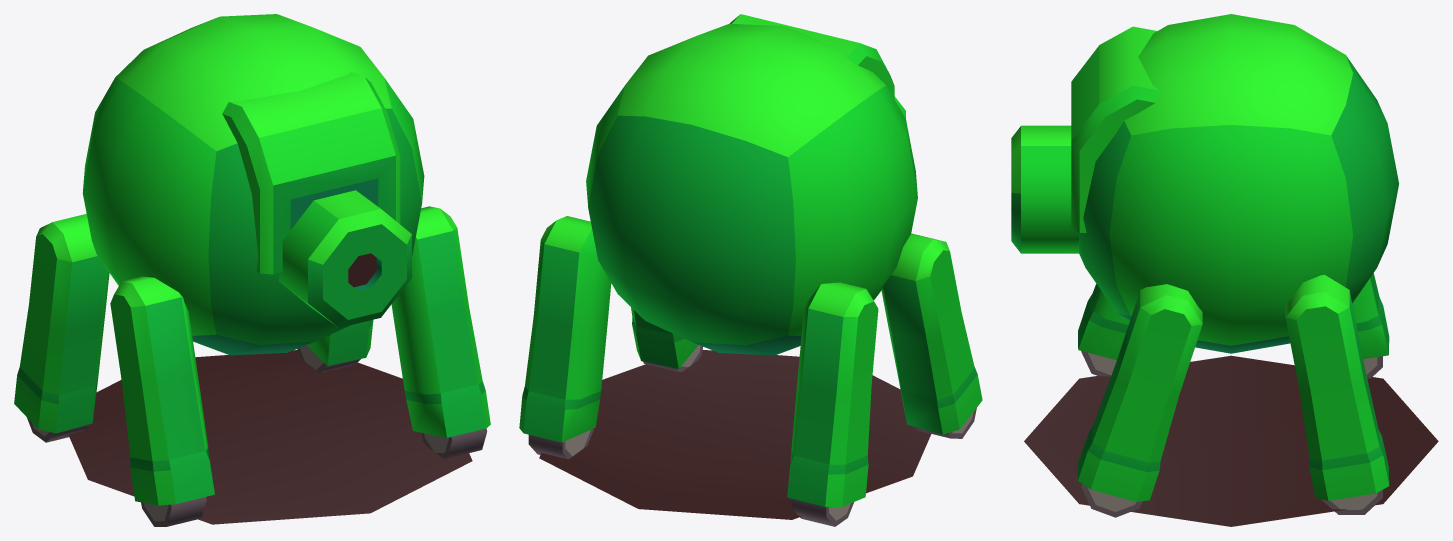
File: NeoTankMesh.GreenEarth.glb
3 views of the same model, side by side, from view 1: azimuth 30°, elevation 25°; view 2: azimuth 150°, elevation 25°; view 3: azimuth 270°, elevation 25° (orthographic). The views are drawn at different scales.
Parts seen in each view (by area): view 1: NeoTankMesh.GreenEarth; view 2: NeoTankMesh.GreenEarth; view 3: NeoTankMesh.GreenEarth.
Part boxes in pixels (bbox=[...]): NeoTankMesh.GreenEarth: bbox=[14, 14, 490, 526]; NeoTankMesh.GreenEarth: bbox=[519, 14, 982, 526]; NeoTankMesh.GreenEarth: bbox=[1011, 14, 1438, 526].
Bounding box in the file's own units: 2.03 × 2.26 × 2.14.
Materials: 1 (1 with a texture image).
